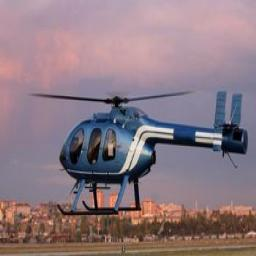helicopter: (36, 65, 252, 222)
